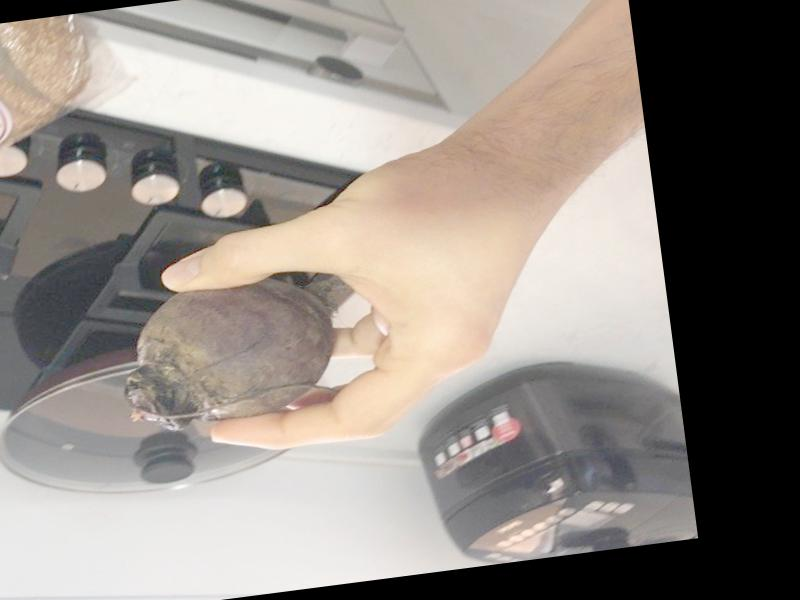Beet: (112, 270, 356, 433)
